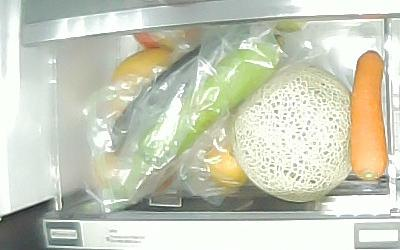carrot: (348, 49, 388, 182)
eggplant_vinyl: (112, 30, 239, 148)
melon: (233, 61, 354, 203)
pear: (109, 47, 173, 111)
tangerine_vinyl: (202, 140, 248, 187)
zucchini_vinyl: (130, 40, 285, 184)
